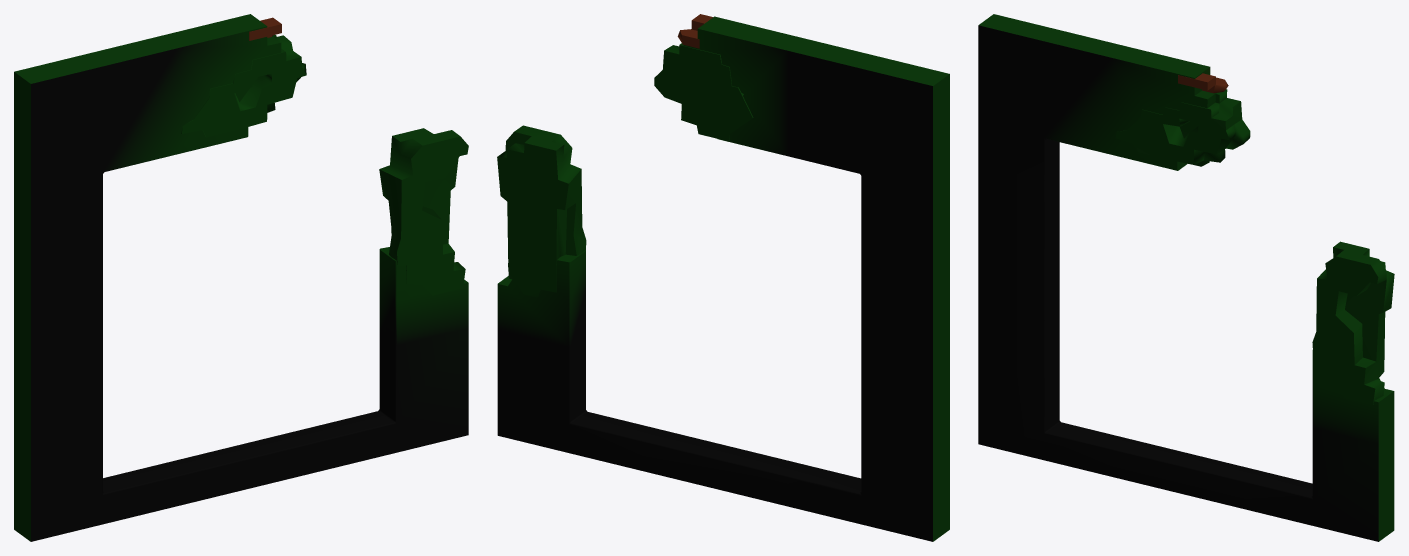
File: DBK_Brick_WinBig_90_A.fbx
3 views of the same model, side by side, from view 1: azimuth 30°, elevation 25°; view 2: azimuth 150°, elevation 25°; view 3: azimuth 330°, elevation 25° (orthographic). The views are drawn at different scales.
Visible parts, largest first — view 1: DBK_Brick_WinBig_90_A; view 2: DBK_Brick_WinBig_90_A; view 3: DBK_Brick_WinBig_90_A.
Boxes of the visible parts, left/top/right/bottom form: DBK_Brick_WinBig_90_A: left=14, top=14, right=468, bottom=541; DBK_Brick_WinBig_90_A: left=497, top=14, right=949, bottom=541; DBK_Brick_WinBig_90_A: left=978, top=14, right=1394, bottom=541.
Size of the model in its own units: 300 by 300 by 21.
